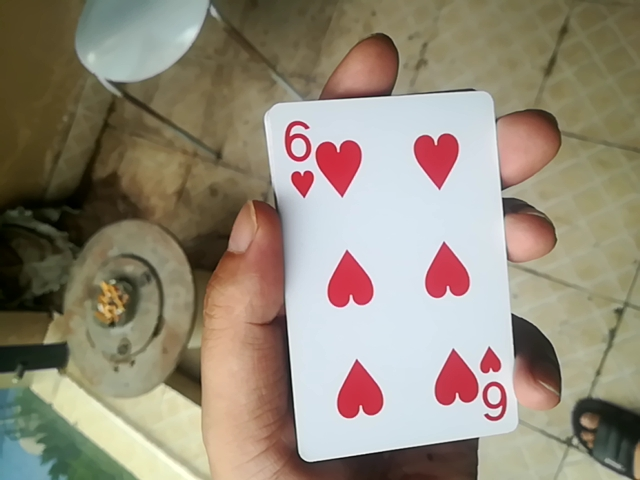hx 6: (278, 91, 509, 465)
